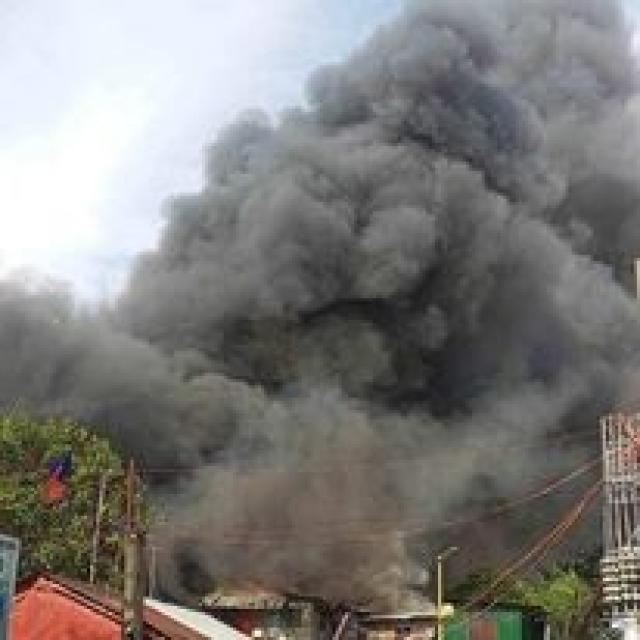Smoke: (188, 152, 510, 560), (321, 12, 639, 404), (18, 293, 468, 518)
